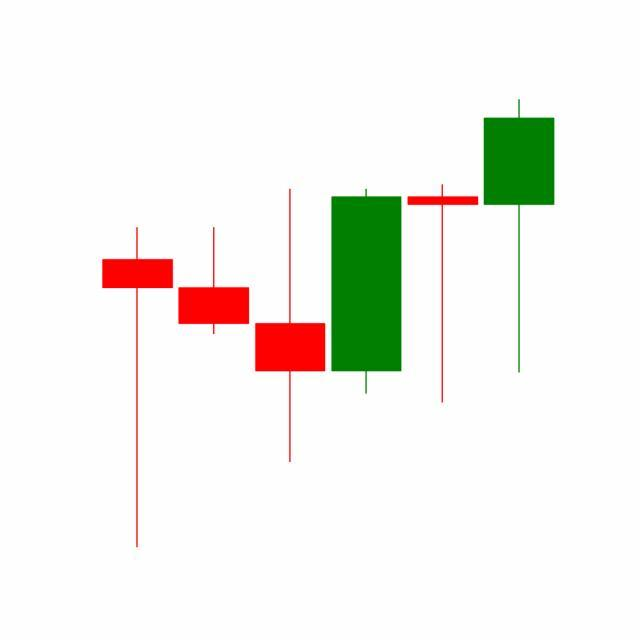Dragonfly Doji: (404, 182, 482, 406)
